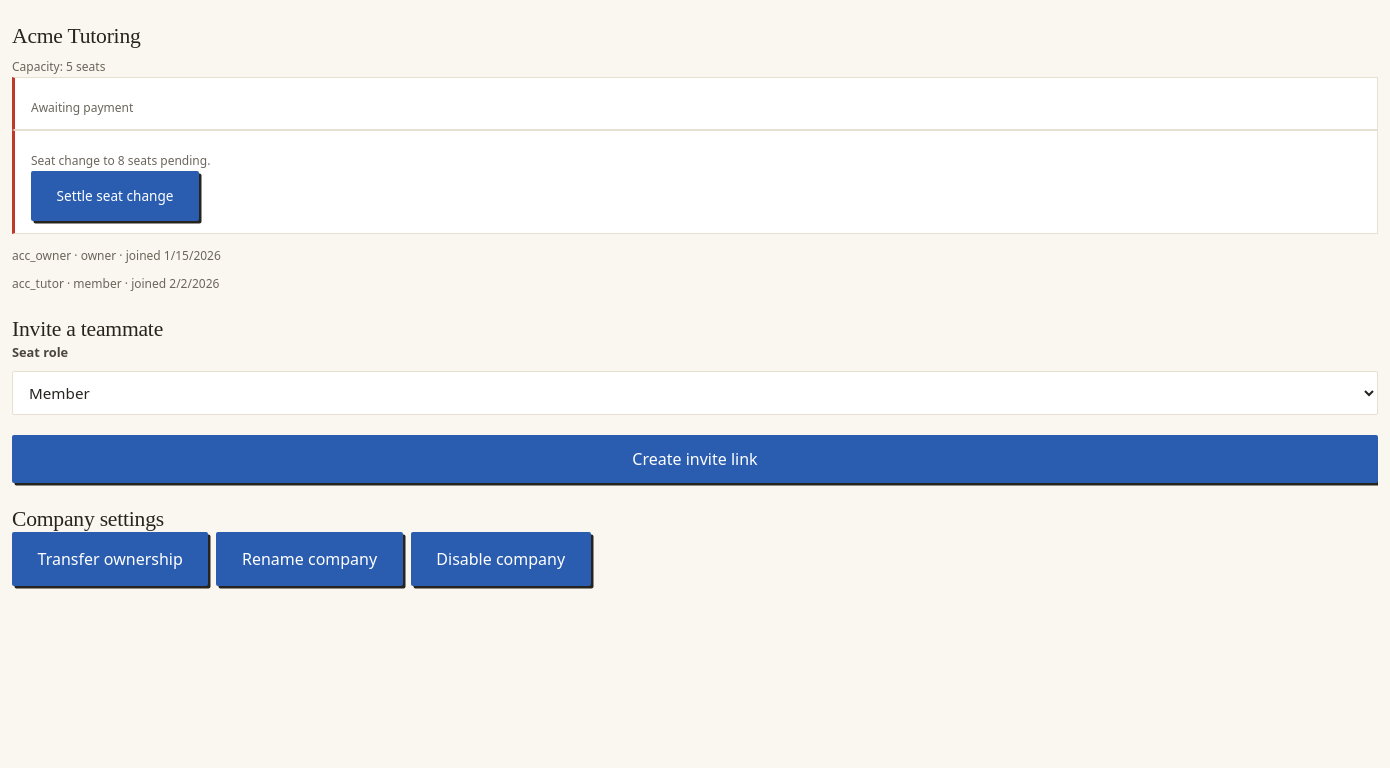
Scenario: CompanyAdminPanel pending seat change › keeps the pending seat change visible while the server still reports it pending
This screenshot has width=1390, height=768.
Expected: the element with test id "company-pending-seats" is shown, [12,130,1378,234]
Click the button with test id "company-seat-change-settle". click: {"x": 115, "y": 196}
box: [31,171,199,221]
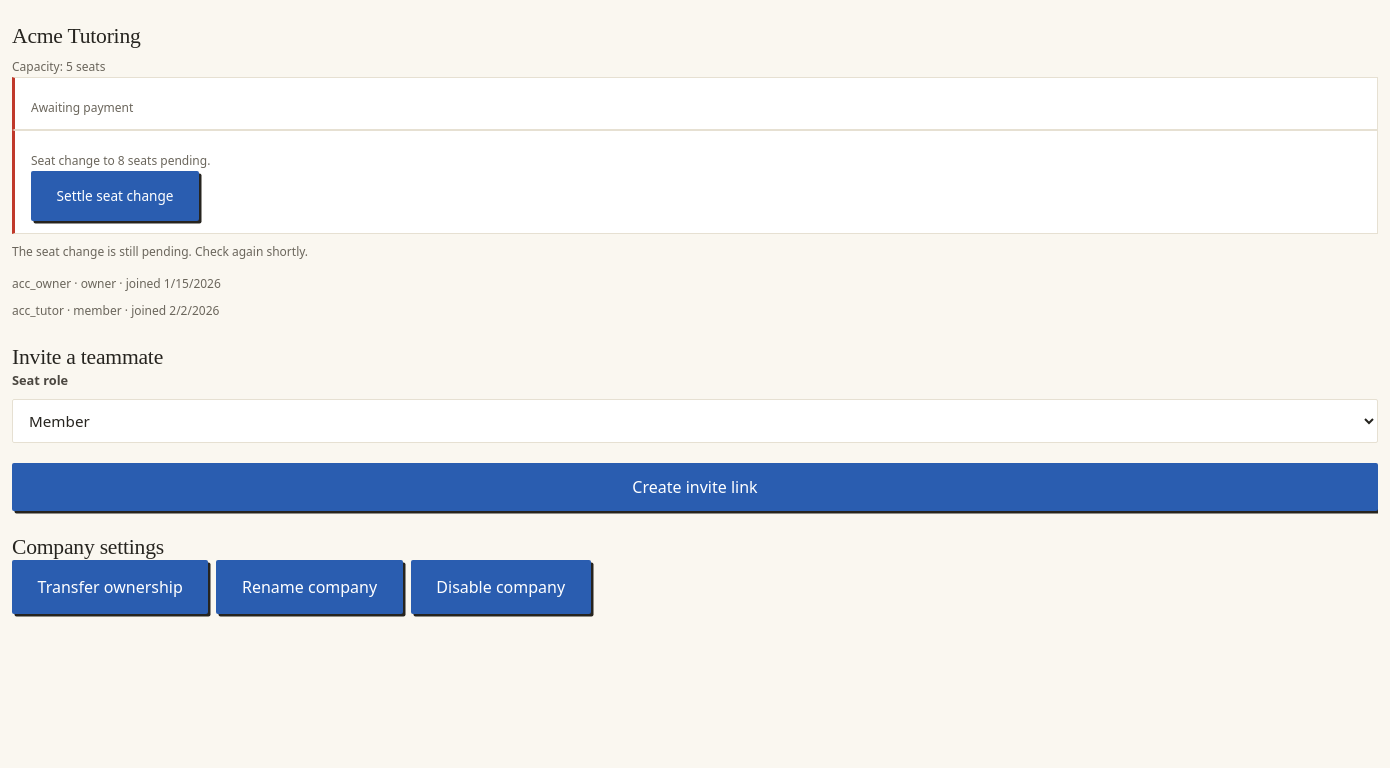
Expected: the element with test id "company-pending-seats" is shown, [12,130,1378,234]
Expected: the message with test id "company-seat-status" shows "pending", [12,243,308,260]
